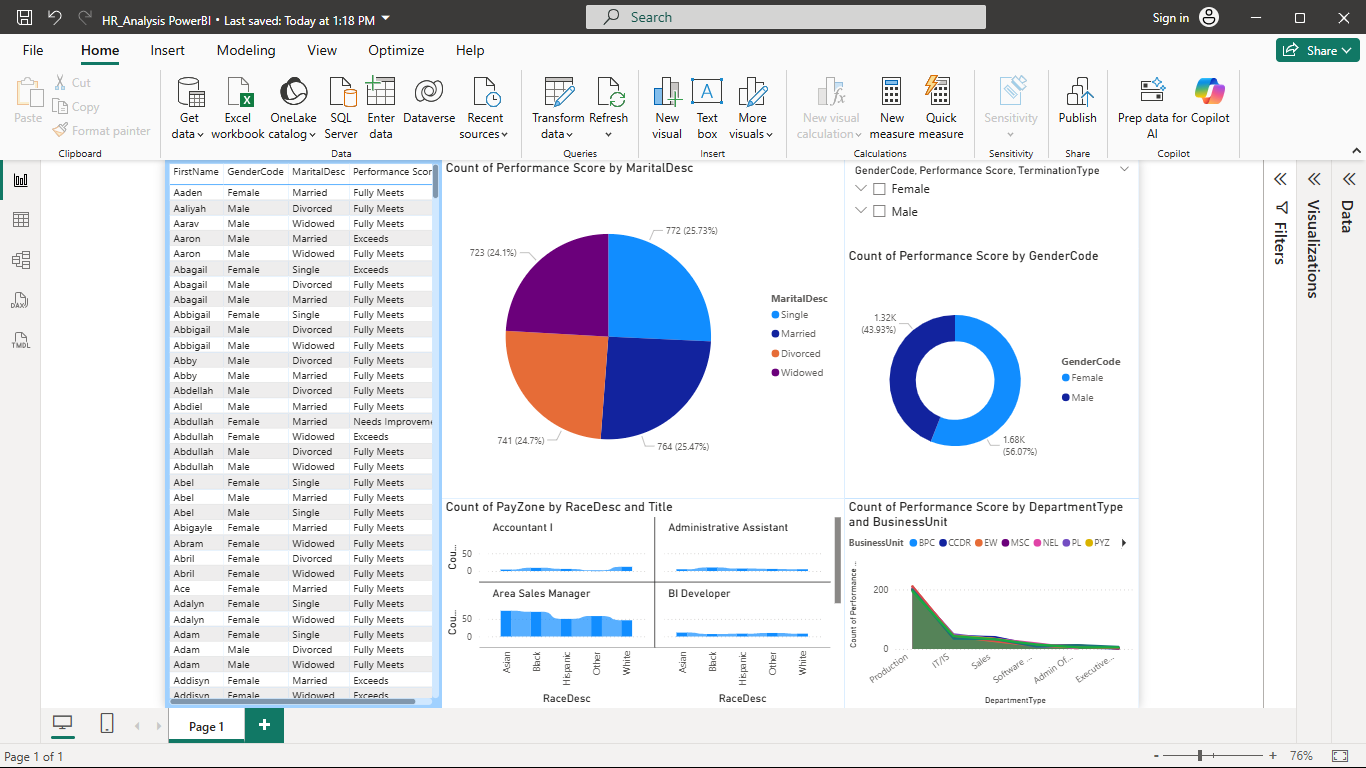

This screenshot's page, from the dashboard's own definition file:
{"tool":"powerbi","page":{"name":"Page 1","canvas":[1280,720],"ordinal":0},"visuals":[{"type":"tableEx","fields":{"Values":["employee_data.FirstName","employee_data.GenderCode","employee_data.MaritalDesc","employee_data.Performance Score"]},"box":[0,0,364.5,720.6],"z":0},{"type":"pieChart","fields":{"Category":["employee_data.MaritalDesc"],"Y":["CountNonNull(employee_data.Performance Score)"]},"box":[364.5,0,529.1,445.1],"z":1000},{"type":"ribbonChart","fields":{"Rows":["employee_data.Title"],"Y":["CountNonNull(employee_data.PayZone)"],"Category":["employee_data.RaceDesc"]},"box":[364.5,445.1,529.1,275.5],"z":2000},{"type":"slicer","fields":{"Values":["employee_data.GenderCode","employee_data.Performance Score","employee_data.TerminationType"]},"box":[893.6,0,386.4,115.9],"z":3000},{"type":"donutChart","fields":{"Category":["employee_data.GenderCode"],"Y":["CountNonNull(employee_data.Performance Score)"]},"box":[893.6,115.9,386.4,329.2],"z":4000},{"type":"areaChart","fields":{"Category":["employee_data.DepartmentType"],"Series":["employee_data.BusinessUnit"],"Y":["CountNonNull(employee_data.Performance Score)"]},"box":[894,445,386,275],"z":5000}]}

Visuals, with their boxes on the page's 1280x720 design canvas (x1, y1, x2, y2). These are canvas units, not pixel positions in the 1366x768 screenshot, which may show the page scaled, cropped or inside an application window:
tableEx - employee_data.FirstName x employee_data.GenderCode: {"x1": 0, "y1": 0, "x2": 364, "y2": 721}
pieChart - employee_data.MaritalDesc x CountNonNull(employee_data.Performance Score): {"x1": 364, "y1": 0, "x2": 894, "y2": 445}
ribbonChart - employee_data.Title x CountNonNull(employee_data.PayZone): {"x1": 364, "y1": 445, "x2": 894, "y2": 721}
slicer - employee_data.GenderCode x employee_data.Performance Score: {"x1": 894, "y1": 0, "x2": 1280, "y2": 116}
donutChart - employee_data.GenderCode x CountNonNull(employee_data.Performance Score): {"x1": 894, "y1": 116, "x2": 1280, "y2": 445}
areaChart - employee_data.DepartmentType x employee_data.BusinessUnit: {"x1": 894, "y1": 445, "x2": 1280, "y2": 720}
